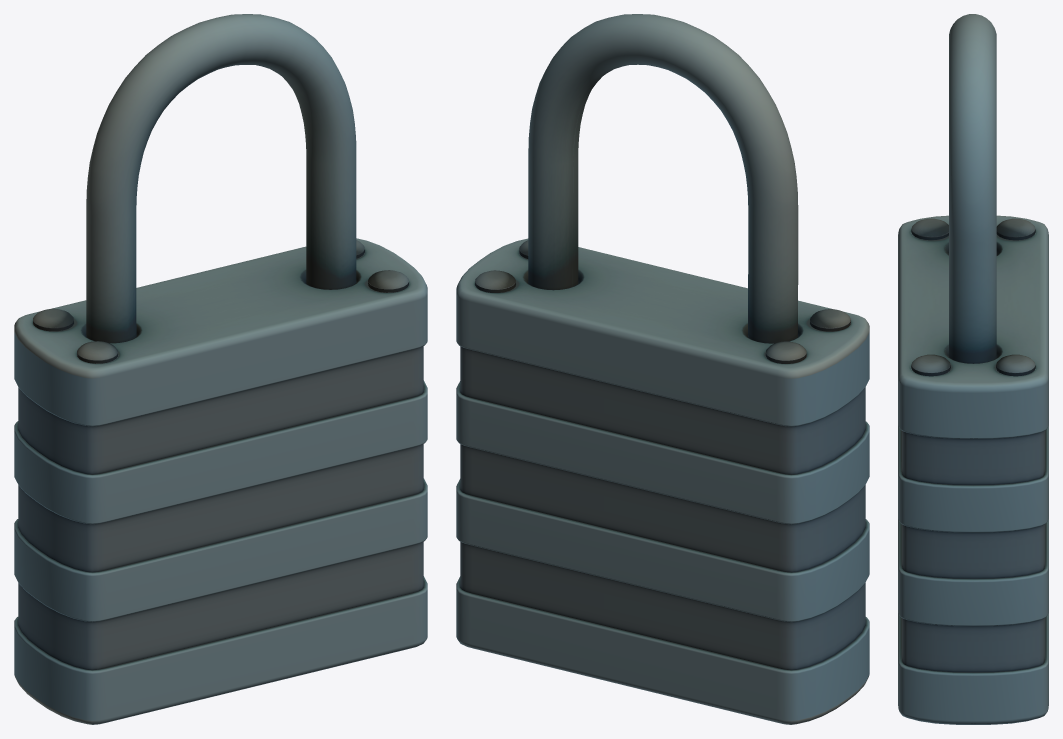
The model's file is lock.glb.
3 views of the same model, side by side, from view 1: azimuth 30°, elevation 25°; view 2: azimuth 150°, elevation 25°; view 3: azimuth 270°, elevation 25° (orthographic). The views are drawn at different scales.
Visible parts, largest first — view 1: locked_lock.1; view 2: locked_lock.1; view 3: locked_lock.1.
Boxes of the visible parts, x1,y1,x2,y2 form: locked_lock.1: [14, 14, 427, 724]; locked_lock.1: [456, 14, 869, 724]; locked_lock.1: [898, 14, 1048, 724].
Bounding box in the file's own units: 0.1722 × 0.2837 × 0.0632.
Materials: 1 (1 with a texture image).
